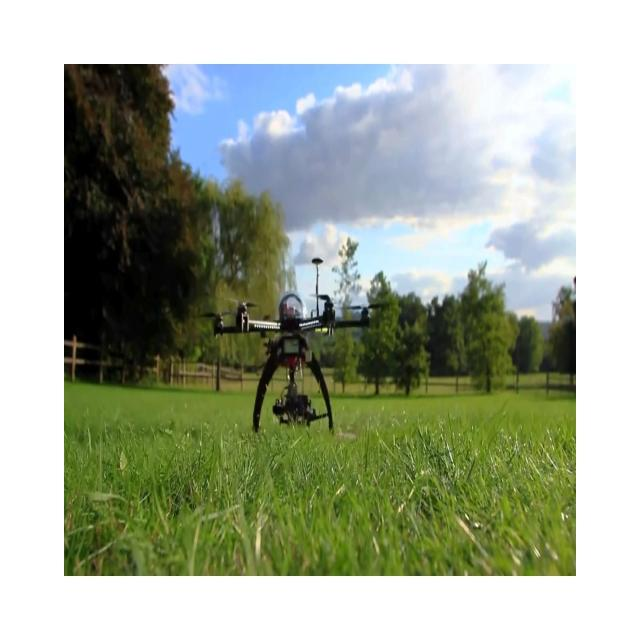drone: (196, 255, 387, 437)
